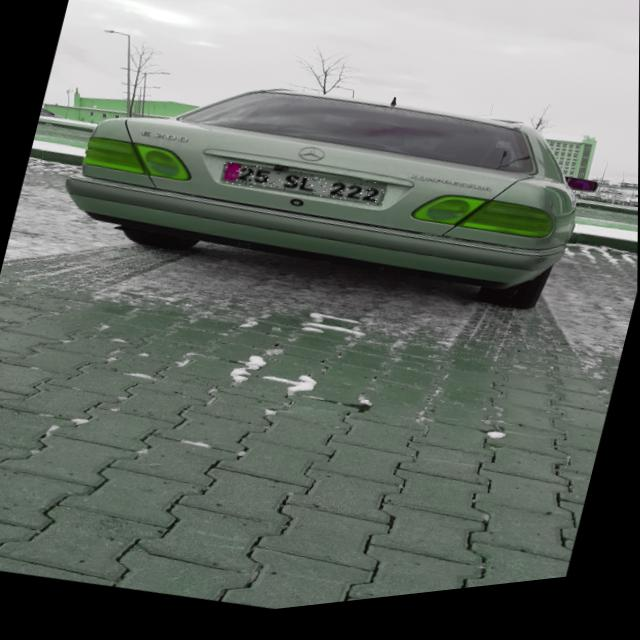license_plate: (219, 152, 387, 229)
